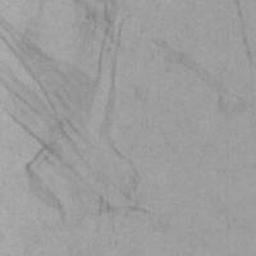Water spot: (0, 0, 156, 228), (177, 51, 247, 118)
